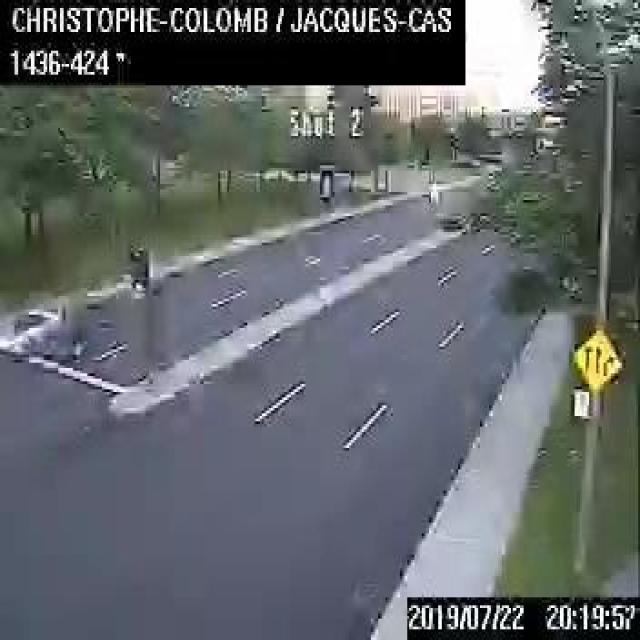vehicle: (0, 298, 69, 354)
